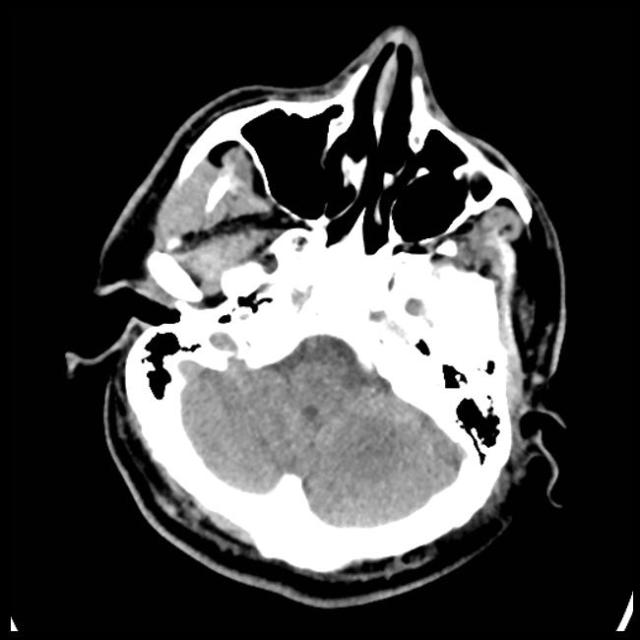lesion: (67, 24, 573, 608)
